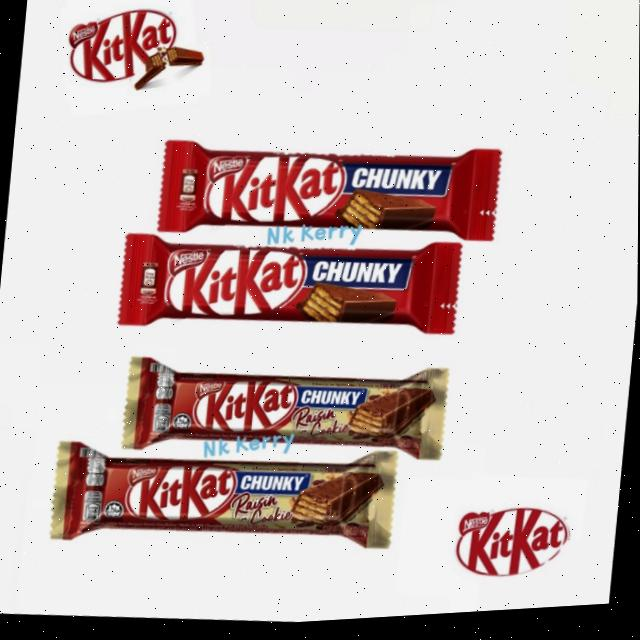kitkat: (48, 424, 397, 571), (156, 127, 501, 262), (119, 220, 460, 356), (124, 341, 451, 479)
